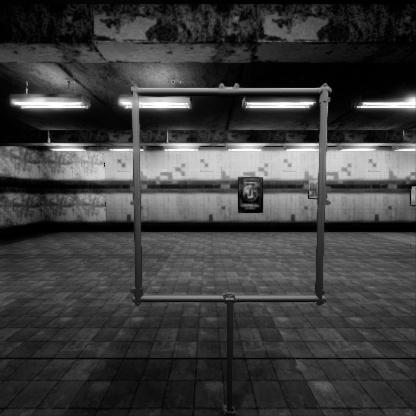gate: (132, 110, 349, 329)
